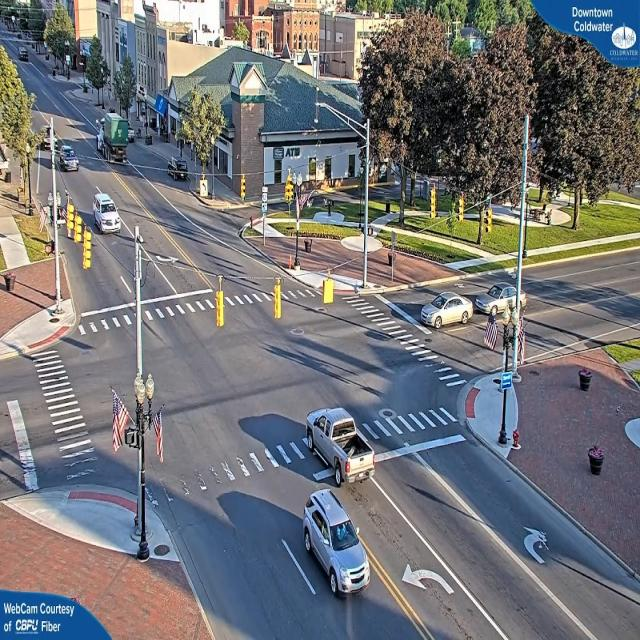car: (298, 490, 368, 601), (306, 407, 379, 482), (417, 292, 474, 332), (476, 278, 528, 316), (92, 191, 121, 233), (164, 156, 189, 180), (58, 145, 78, 173)
